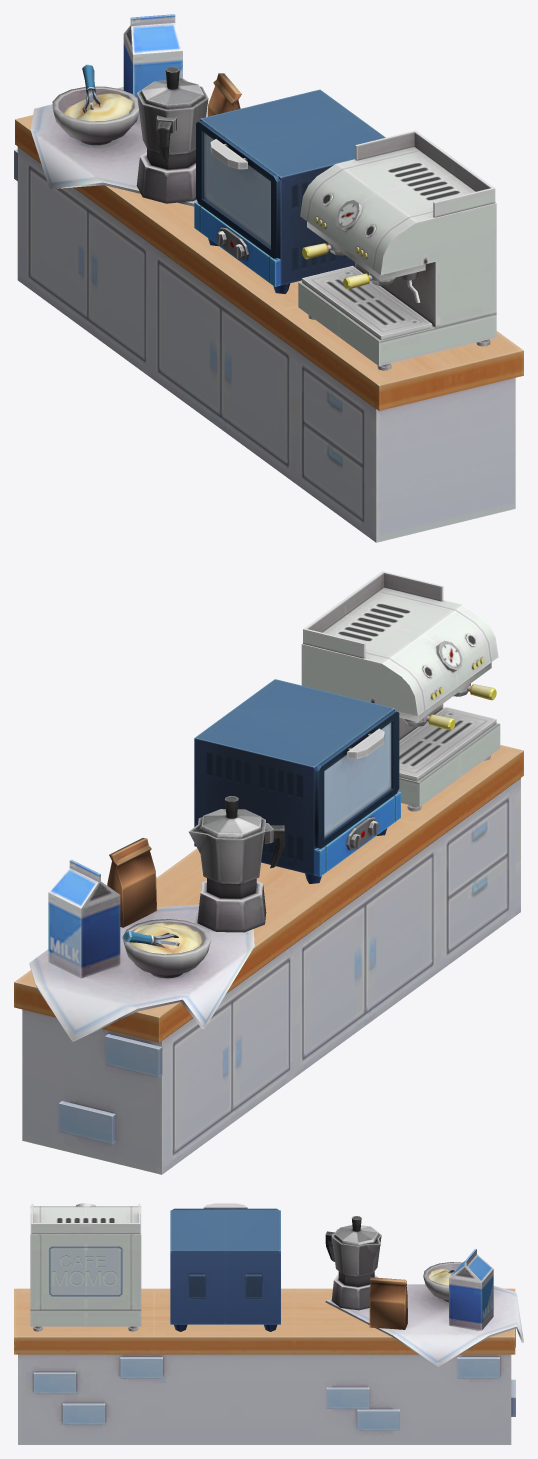
Rendered from my_cafe_01_b_bar_02.glb.
3 renders of one model, top to bottom at view 1: azimuth 30°, elevation 25°; view 2: azimuth 150°, elevation 25°; view 3: azimuth 270°, elevation 25°, orthographic. The views are drawn at different scales.
Parts seen in each view (by area): view 1: my_cafe_01_b_bar_02; view 2: my_cafe_01_b_bar_02; view 3: my_cafe_01_b_bar_02.
Boxes of the visible parts, x1=… form: my_cafe_01_b_bar_02: x1=14, y1=14, x2=523, y2=542; my_cafe_01_b_bar_02: x1=14, y1=571, x2=523, y2=1174; my_cafe_01_b_bar_02: x1=14, y1=1203, x2=523, y2=1444.
Size of the model in its own units: 0.00548 by 0.0104 by 0.0222.
Materials: 2 (2 with a texture image).
